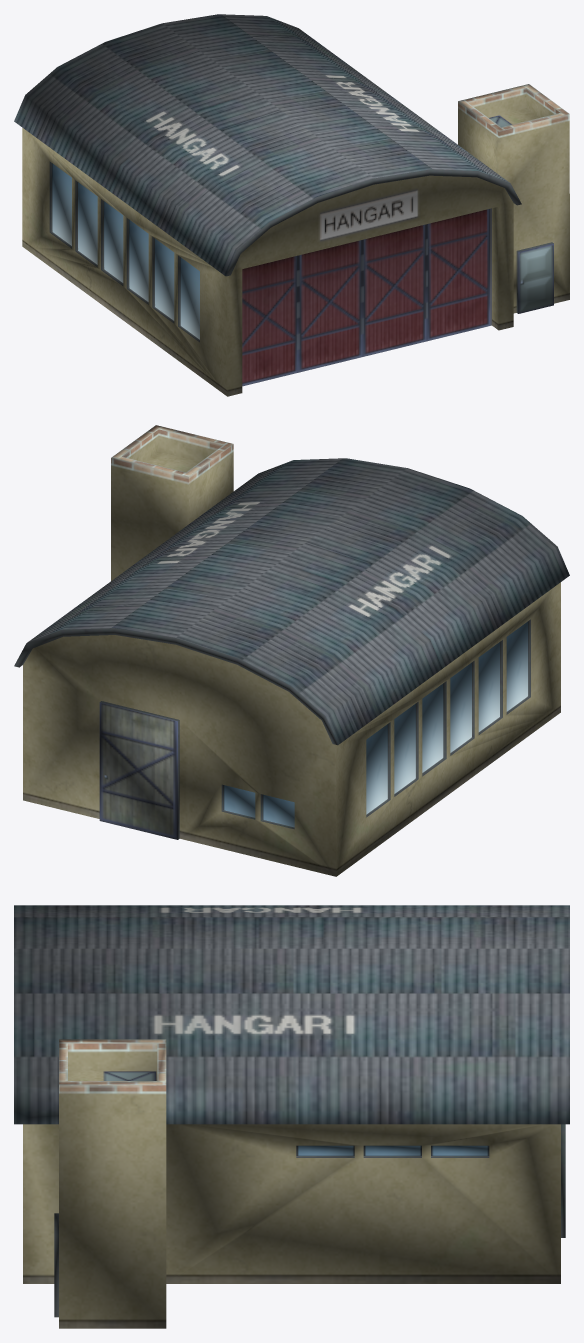
File: hangar_mesh.obj
3 views of the same model, one above another, from view 1: azimuth 30°, elevation 25°; view 2: azimuth 150°, elevation 25°; view 3: azimuth 270°, elevation 25° (orthographic). The views are drawn at different scales.
Visible parts, largest first — view 1: Default; view 2: Default; view 3: Default.
Boxes of the visible parts, <box> form: Default: <box>14,14,569,396</box>; Default: <box>14,425,569,876</box>; Default: <box>14,905,569,1328</box>.
Size of the model in its own units: 12.79 by 6.29 by 13.
1 material, 1 textured.
